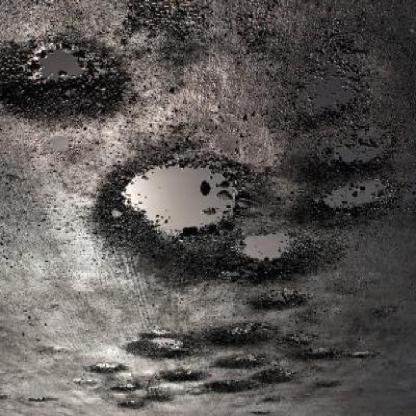pothole: (91, 154, 255, 281), (1, 37, 128, 126), (286, 27, 376, 133), (295, 126, 399, 181), (235, 234, 344, 285), (293, 177, 397, 229), (204, 320, 277, 352), (280, 332, 337, 370), (123, 334, 195, 363), (245, 291, 310, 314), (253, 367, 296, 388), (159, 369, 208, 387), (205, 380, 254, 396), (91, 363, 127, 377), (147, 395, 172, 406), (109, 386, 135, 395), (119, 403, 143, 412)
